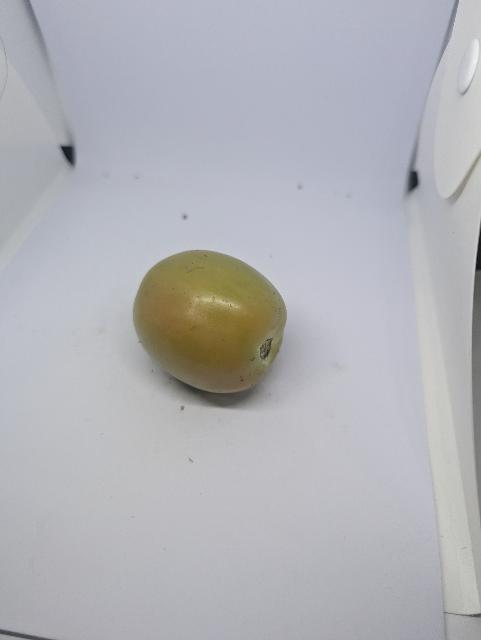breaker: (133, 250, 287, 393)
